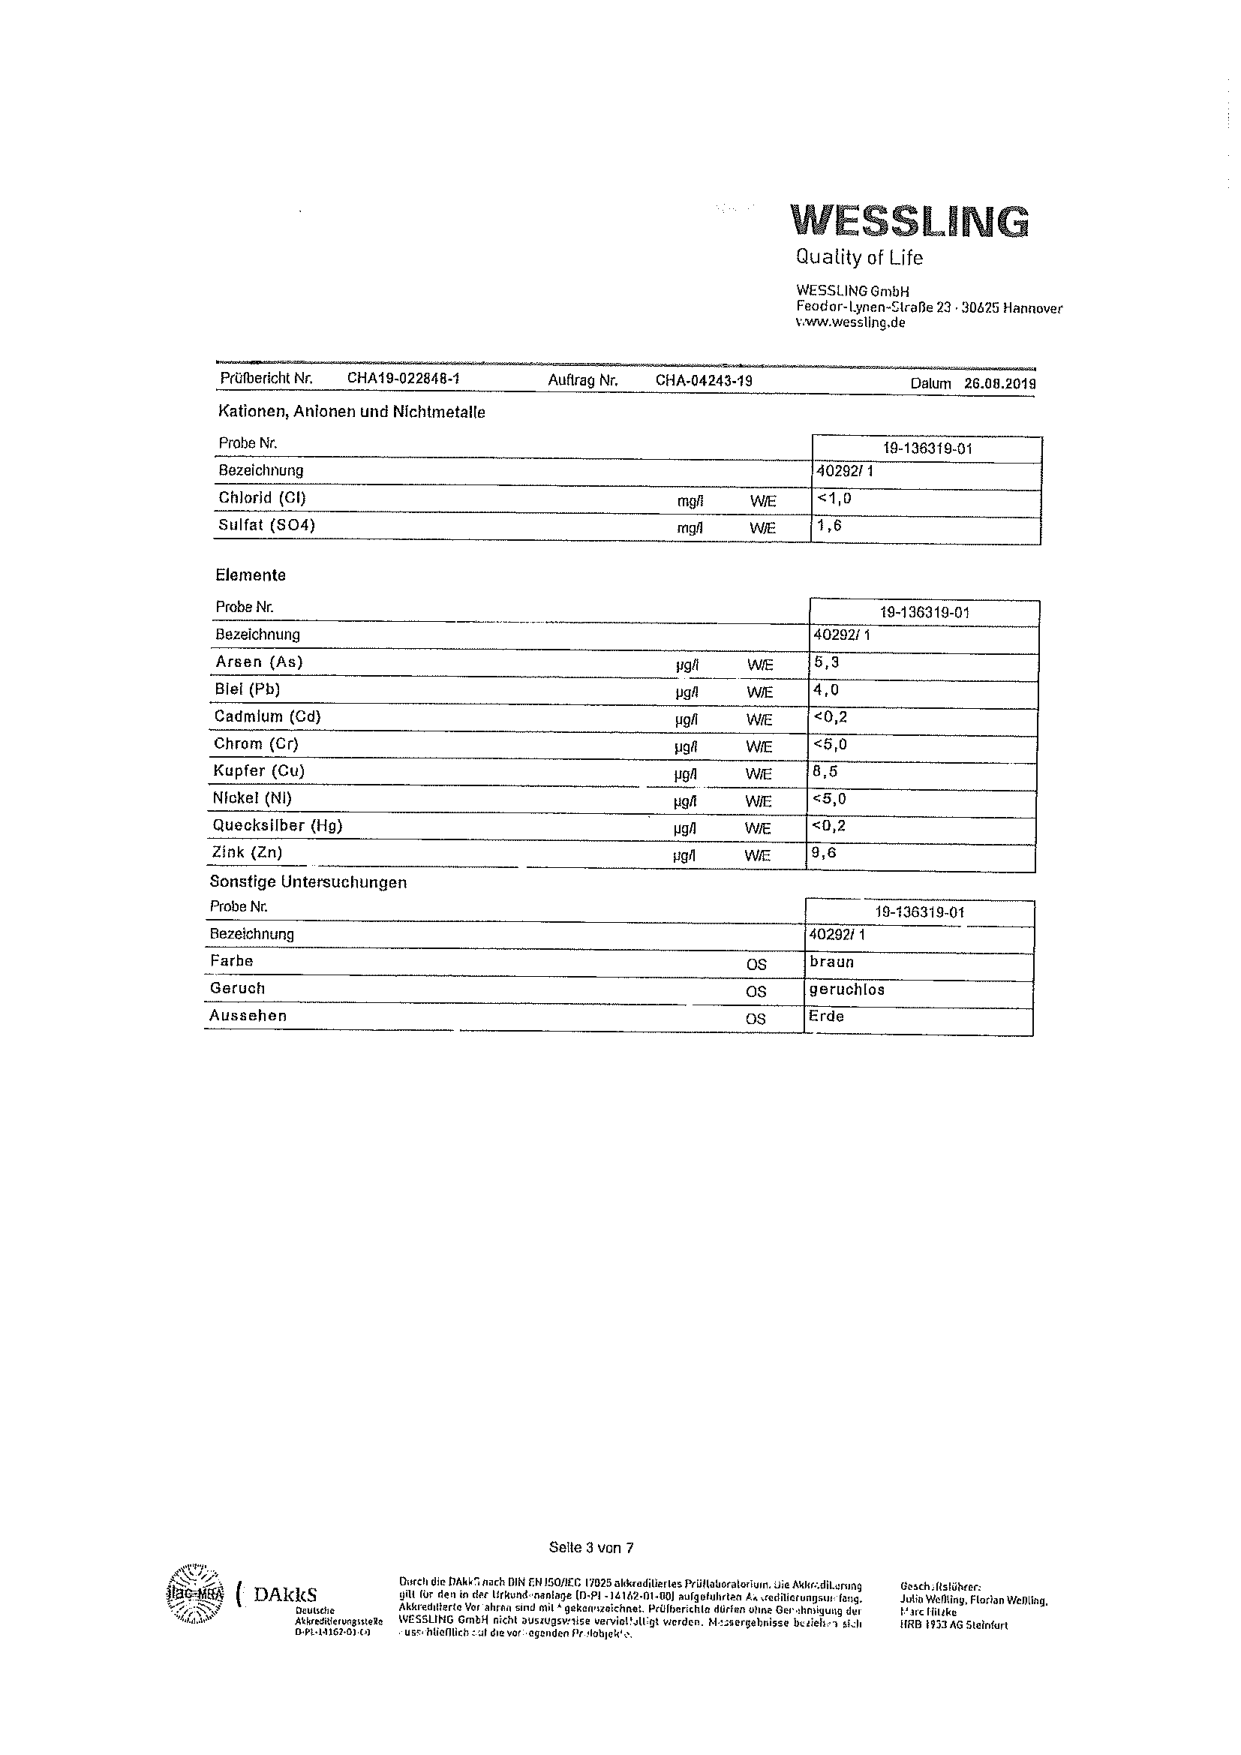table: (204, 585, 1058, 880), (192, 894, 1044, 1065), (204, 427, 1064, 559)
